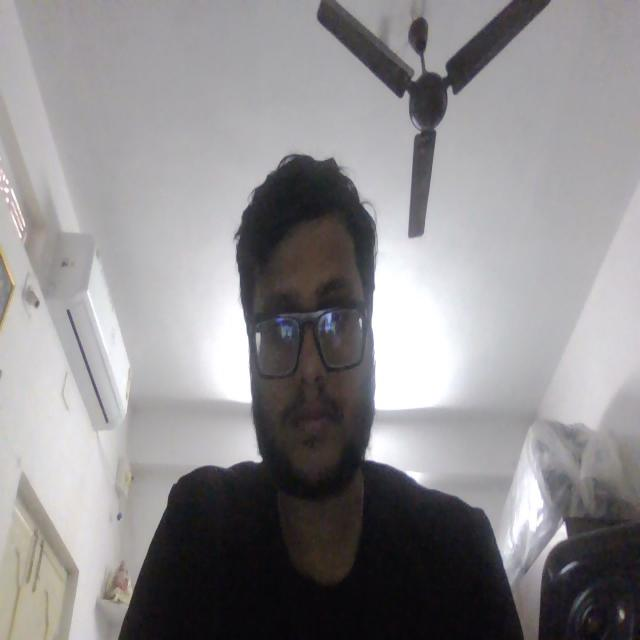phone: (539, 528, 638, 640)
